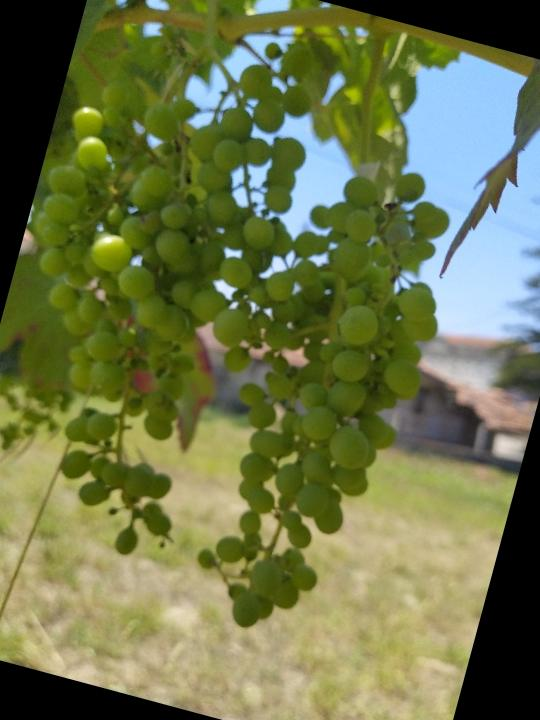grape: (0, 0, 337, 575), (157, 135, 481, 660)
